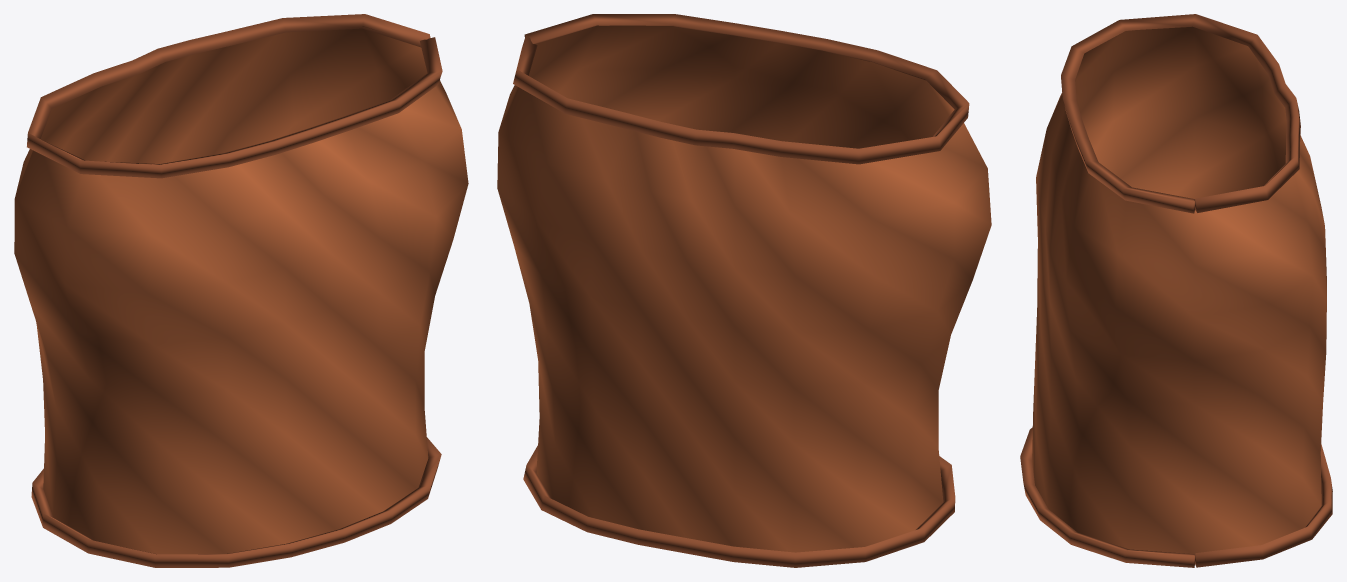
The model's file is copper_armor_chest.glb.
3 renders of one model, left to right at view 1: azimuth 30°, elevation 25°; view 2: azimuth 150°, elevation 25°; view 3: azimuth 270°, elevation 25°, orthographic. The views are drawn at different scales.
Parts seen in each view (by area): view 1: copper_armor_chest; view 2: copper_armor_chest; view 3: copper_armor_chest.
Boxes of the visible parts, x1,y1,x2,y2 form: copper_armor_chest: (14,14,468,567); copper_armor_chest: (497,14,991,567); copper_armor_chest: (1020,14,1332,567).
Bounding box in the file's own units: 0.4364 × 0.3859 × 0.2895.
